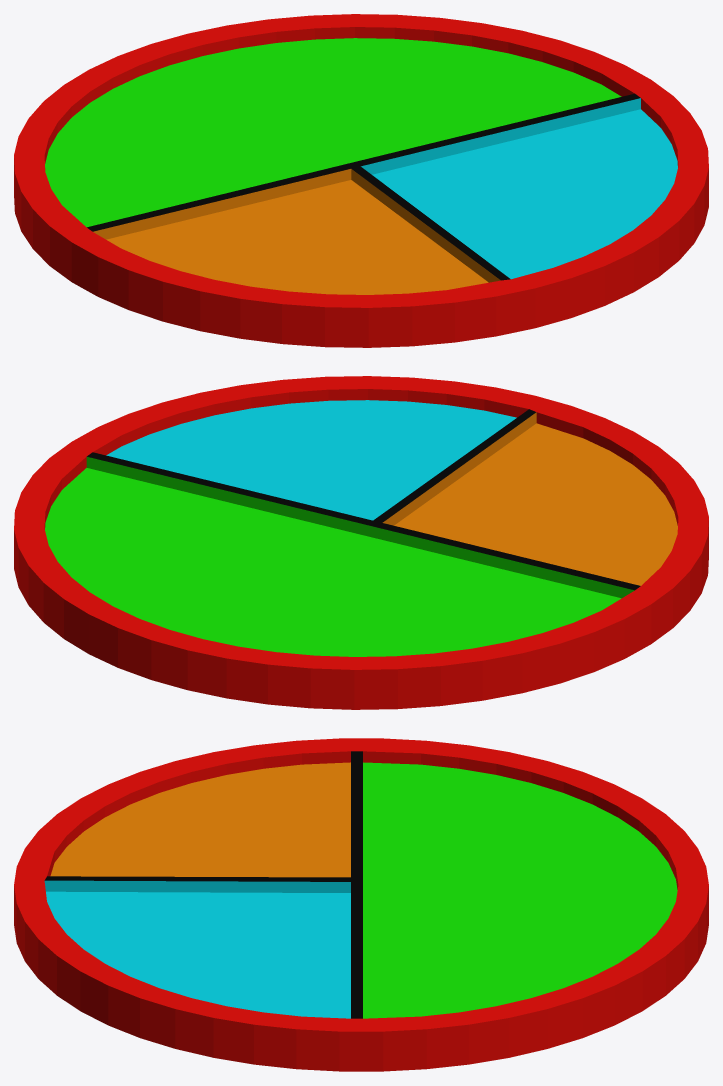
Rendered from PlateOne.fbx.
The picture shows the model from 3 angles, top to bottom: view 1: azimuth 30°, elevation 25°; view 2: azimuth 150°, elevation 25°; view 3: azimuth 270°, elevation 25°; orthographic projection.
Parts seen in each view (by area): view 1: Cylinder; view 2: Cylinder; view 3: Cylinder.
Boxes of the visible parts, x1=… form: Cylinder: x1=14, y1=14, x2=708, y2=347; Cylinder: x1=14, y1=376, x2=708, y2=709; Cylinder: x1=14, y1=738, x2=708, y2=1071.
Bounding box in the file's own units: 200 × 12.68 × 200.
